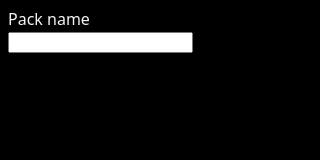
TextField › label rests in the field until focused or filled
The image size is (320, 160).
Step 1. Click the text "Pack name" → (49, 19), box [8,8,90,30]
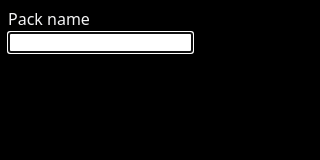
Result: the element "Pack name" has attribute data-floating at [8,8,193,53]
Step 2. Press Tab
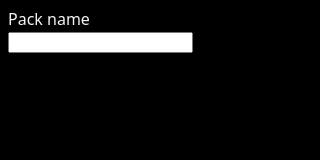
Result: the element "Pack name" does not have attribute data-floating at [8,8,193,53]
Step 3. Type "Foggy" into the field labelled "Pack name" → (100, 42), box [8,32,193,53]
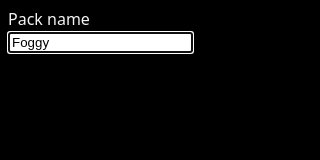
Step 4. Press Tab
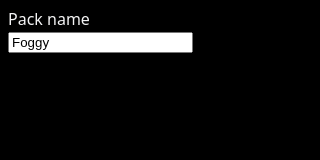
Result: the element "Pack name" has attribute data-floating at [8,8,193,53]
Result: the element "Pack name" has attribute data-filled at [8,8,193,53]
